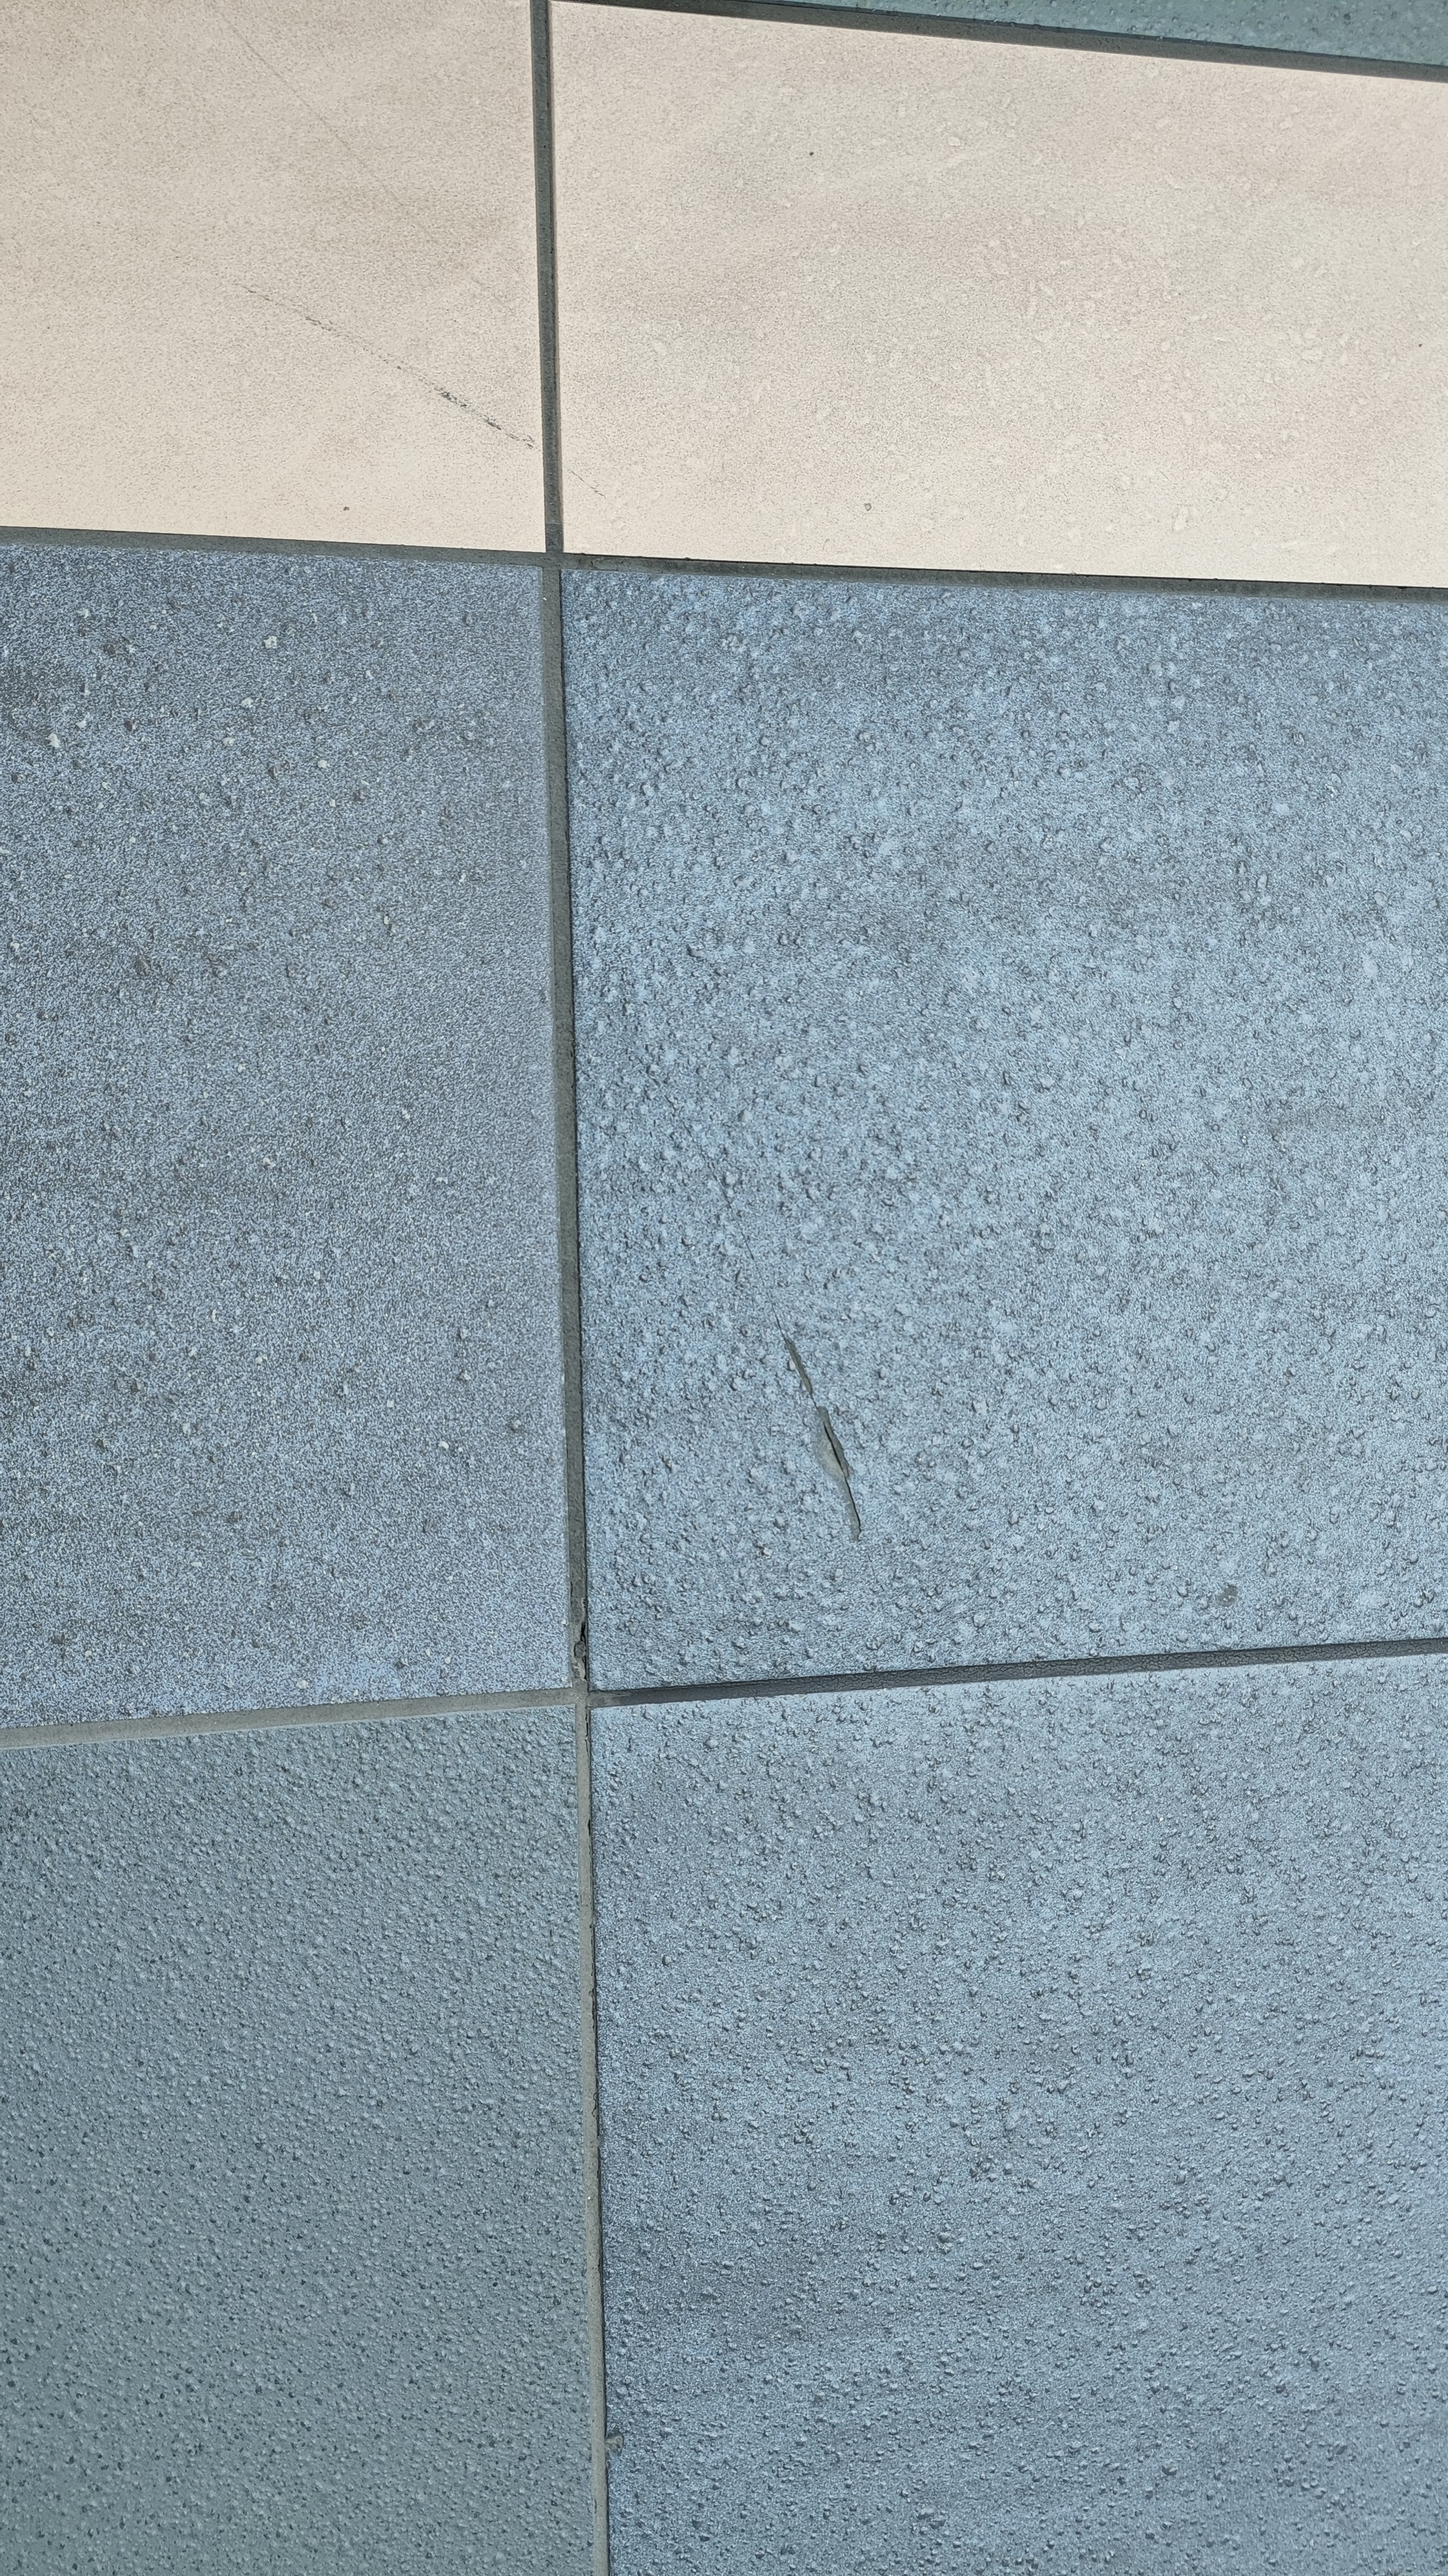Defect: (640, 1051, 879, 1557)
Stain: (228, 264, 541, 469)
